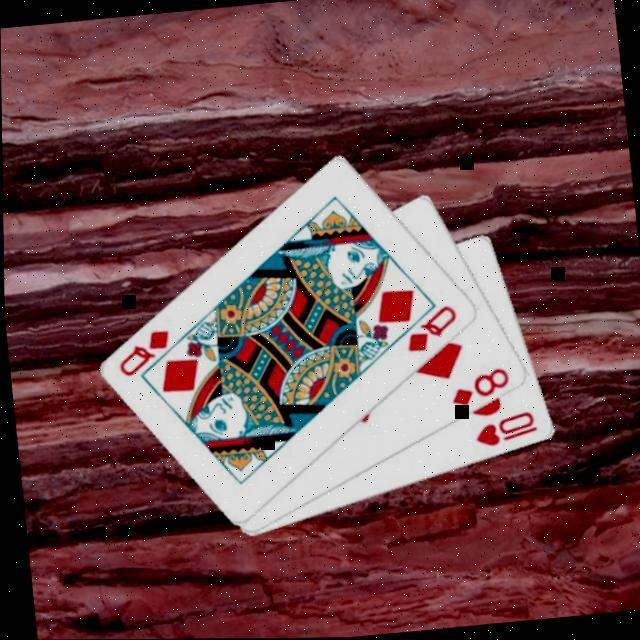10H: (467, 408, 539, 452)
8D: (442, 364, 512, 412)
QD: (109, 326, 174, 381), (398, 302, 461, 357)
